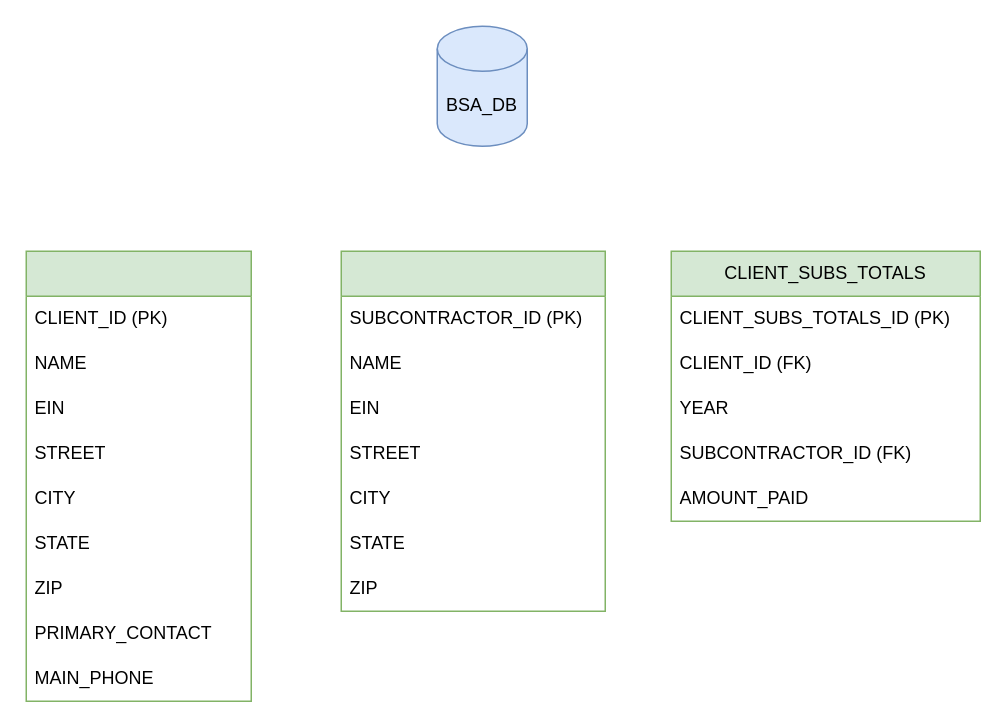
Some shapes in this 1007 by 728 pixel diagram are drawn without their labels. The shapes that lost their labels are listed below. From the top down, each one's box as (x1, y1, x2, y2) in pixels, then its label:
(340, 250, 605, 611): SUBCONTRACTORS
(25, 250, 251, 701): CLIENTS
